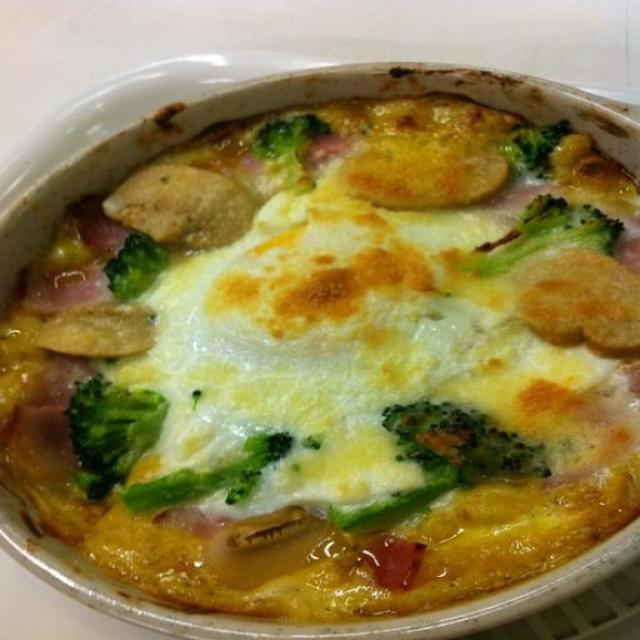米饭主食: (29, 63, 620, 610)
